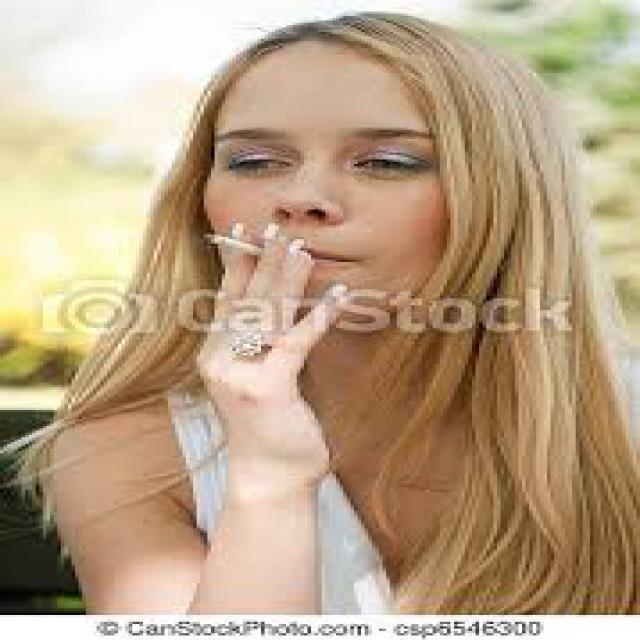smoking: (198, 229, 273, 262)
